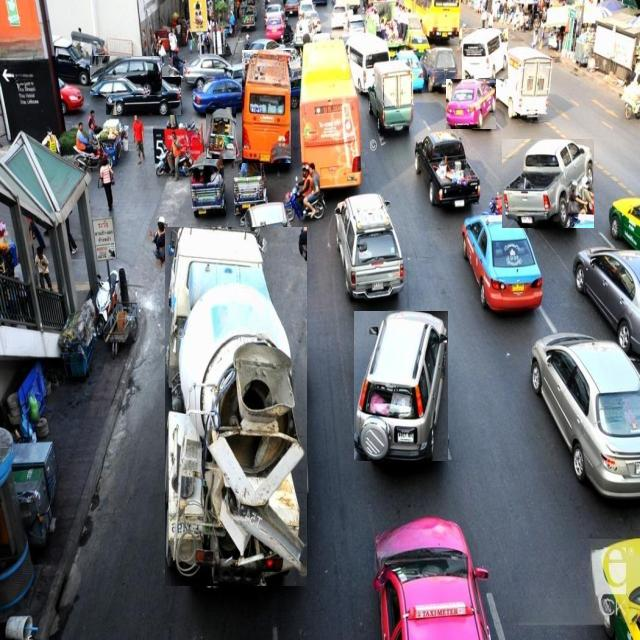autorickshaw: (234, 147, 268, 217), (190, 151, 226, 217), (206, 108, 236, 159)
bus: (300, 40, 362, 188), (242, 51, 291, 163), (346, 34, 389, 93), (462, 28, 508, 79)
car: (532, 333, 640, 497), (374, 518, 490, 640), (355, 311, 448, 461), (502, 139, 594, 228), (461, 215, 542, 311), (335, 194, 405, 299), (572, 247, 640, 353), (415, 130, 481, 208), (106, 77, 181, 115), (90, 57, 162, 95), (446, 79, 496, 129), (184, 55, 244, 87), (52, 36, 91, 85), (192, 77, 242, 114)
truck: (166, 228, 307, 586), (490, 47, 552, 117), (368, 62, 412, 131)
